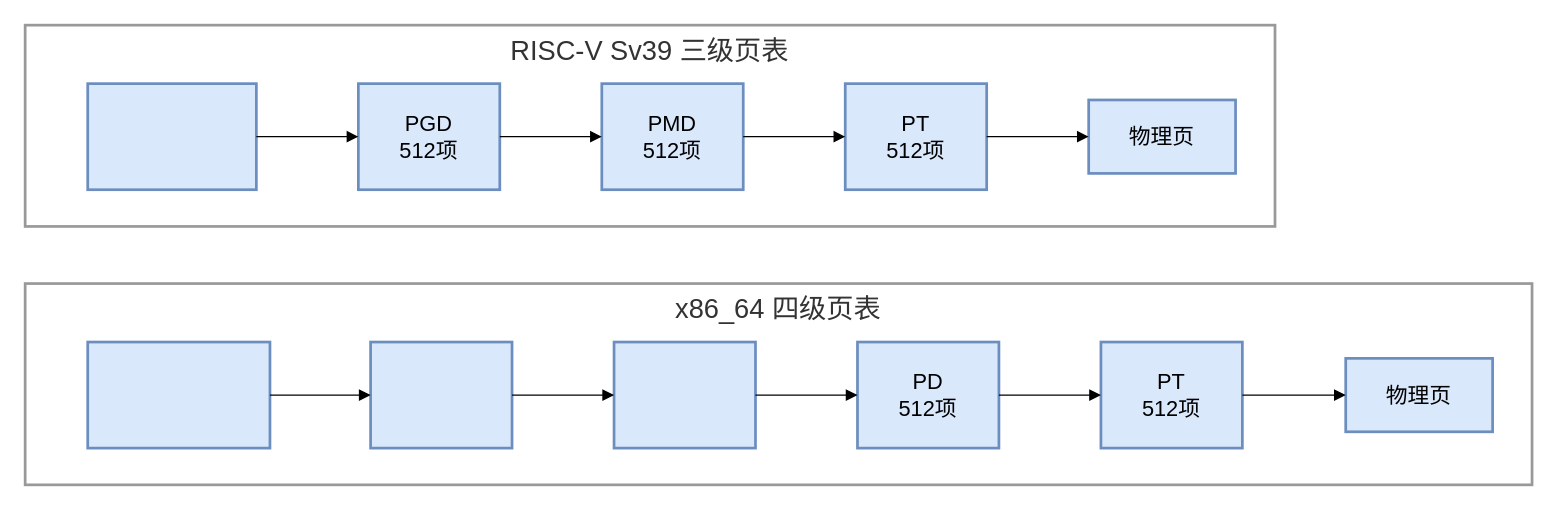
This 1556x509 diagram has some shape labels left out. Here are the shapes that lost their labels. From the top down, the centre of each, then its label:
At point (171, 136): "虚拟地址 9|9|9|12".
At point (178, 394): "虚拟地址 9|9|9|9|12".
At point (441, 394): "PML4 512项".
At point (684, 394): "PDPT 512项".
